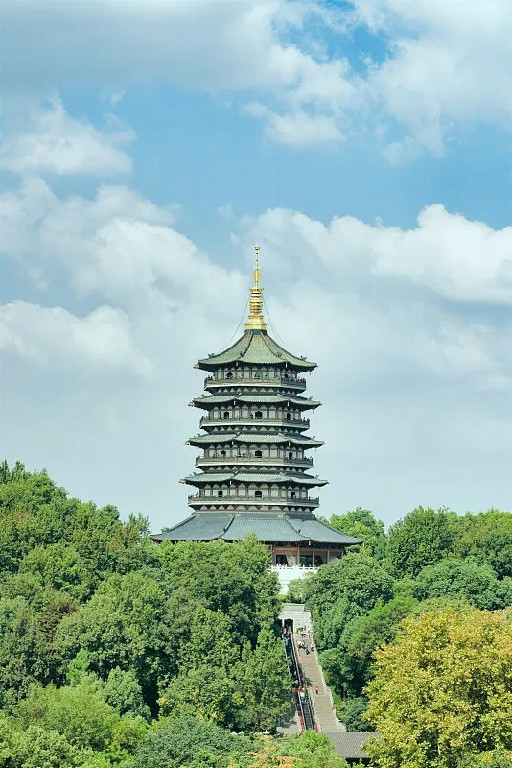Leifeng: (146, 241, 365, 568)
